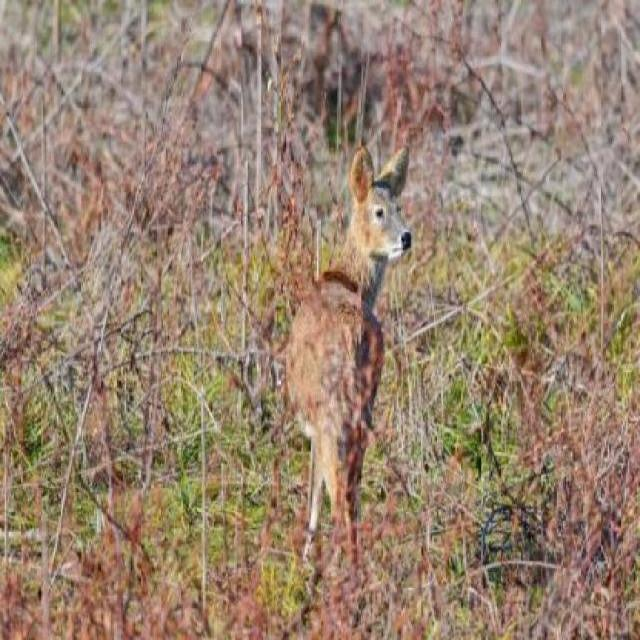deer: (282, 143, 422, 568)
